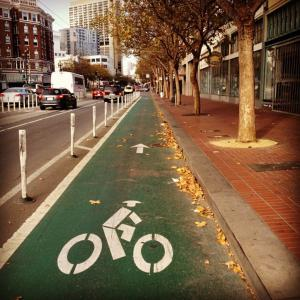Vehicle-registration-plate: (47, 97, 54, 101)
